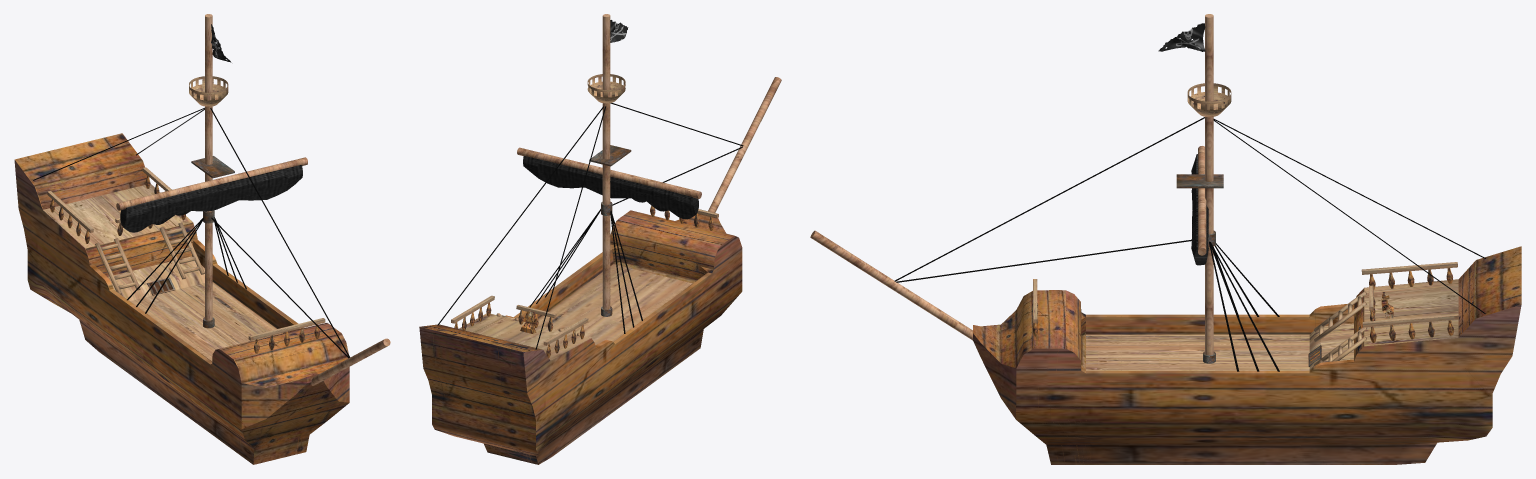
The model's file is ship.glb.
The picture shows the model from 3 angles, left to right: view 1: azimuth 30°, elevation 25°; view 2: azimuth 150°, elevation 25°; view 3: azimuth 270°, elevation 25°; orthographic projection. The views are drawn at different scales.
Bounding box in the file's own units: 9.51 × 18.9 × 28.02.
Materials: 3 (3 with a texture image).
